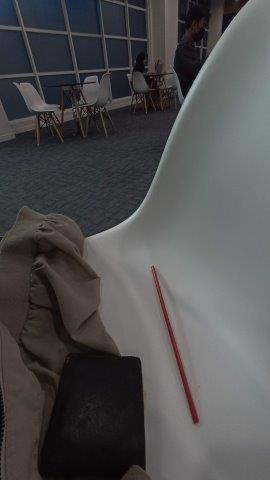sedotan: (151, 264, 199, 423)
